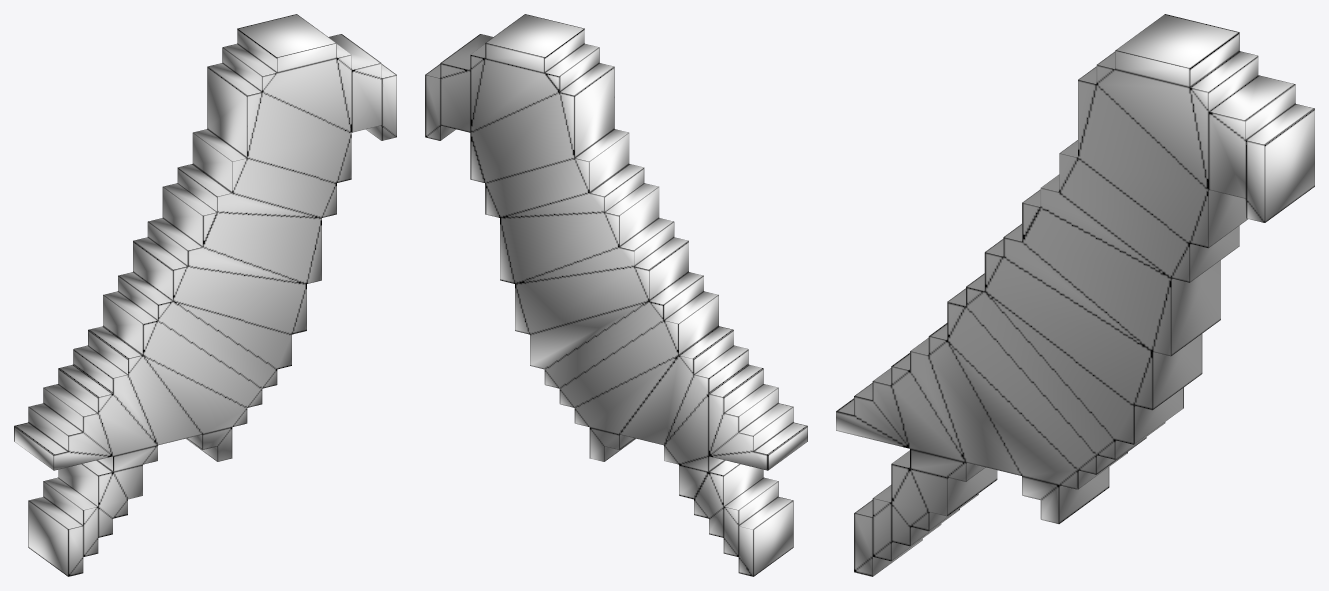
Rendered from parrot_atrest.obj.
3 renders of one model, left to right at view 1: azimuth 30°, elevation 25°; view 2: azimuth 150°, elevation 25°; view 3: azimuth 330°, elevation 25°, orthographic. The views are drawn at different scales.
Parts seen in each view (by area): view 1: c:/Documents and Settings/v21/My Documents/My Dropbox/joebabies/; view 2: c:/Documents and Settings/v21/My Documents/My Dropbox/joebabies/; view 3: c:/Documents and Settings/v21/My Documents/My Dropbox/joebabies/.
Boxes of the visible parts, bbox=[...] form: c:/Documents and Settings/v21/My Documents/My Dropbox/joebabies/: bbox=[14, 14, 396, 576]; c:/Documents and Settings/v21/My Documents/My Dropbox/joebabies/: bbox=[425, 14, 807, 576]; c:/Documents and Settings/v21/My Documents/My Dropbox/joebabies/: bbox=[836, 14, 1314, 576].
Bounding box in the file's own units: 0.23 × 0.3 × 0.0464.
